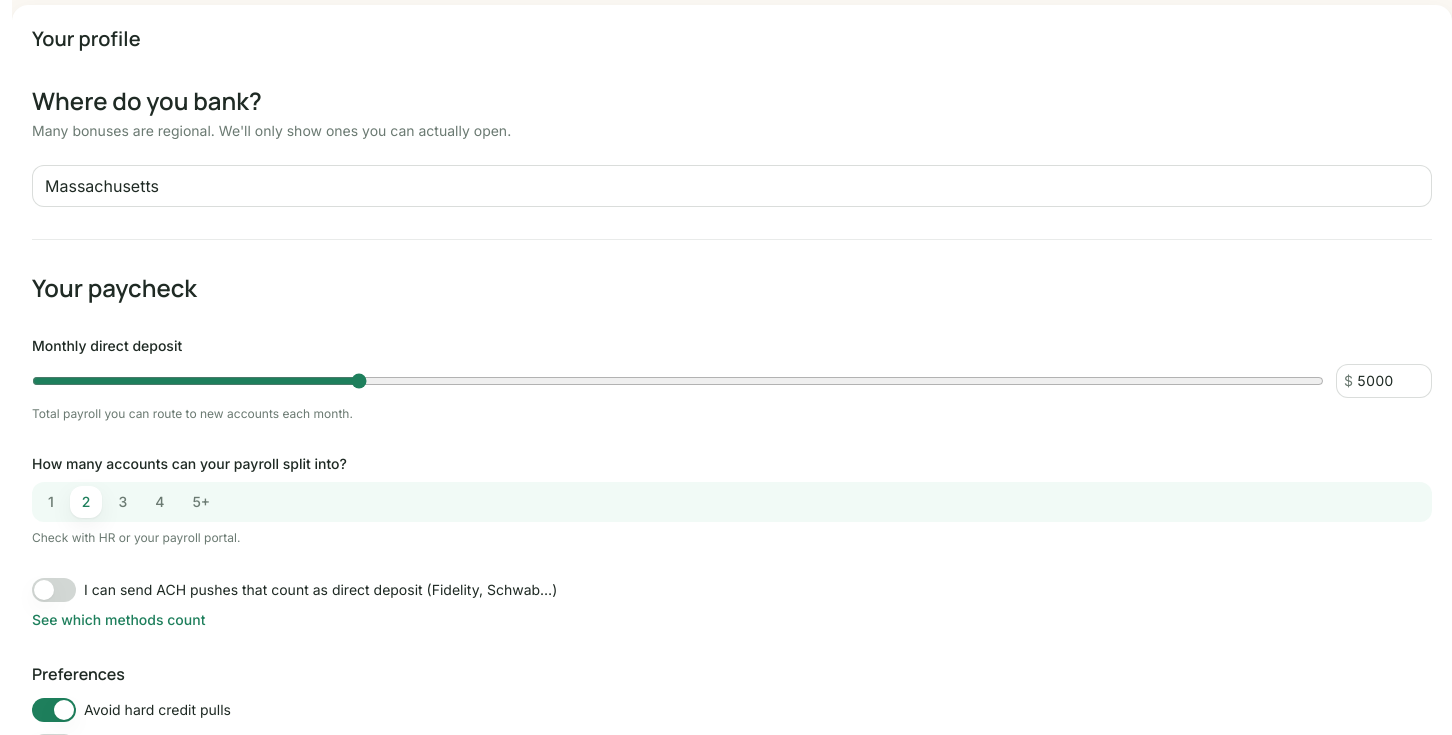
Test case: SettingsPage › editing the monthly DD amount then pressing Save updates the store
Replace the text in the number field named "Monthly direct deposit" with "8000" at (1384, 381), box [1336,364,1432,398]
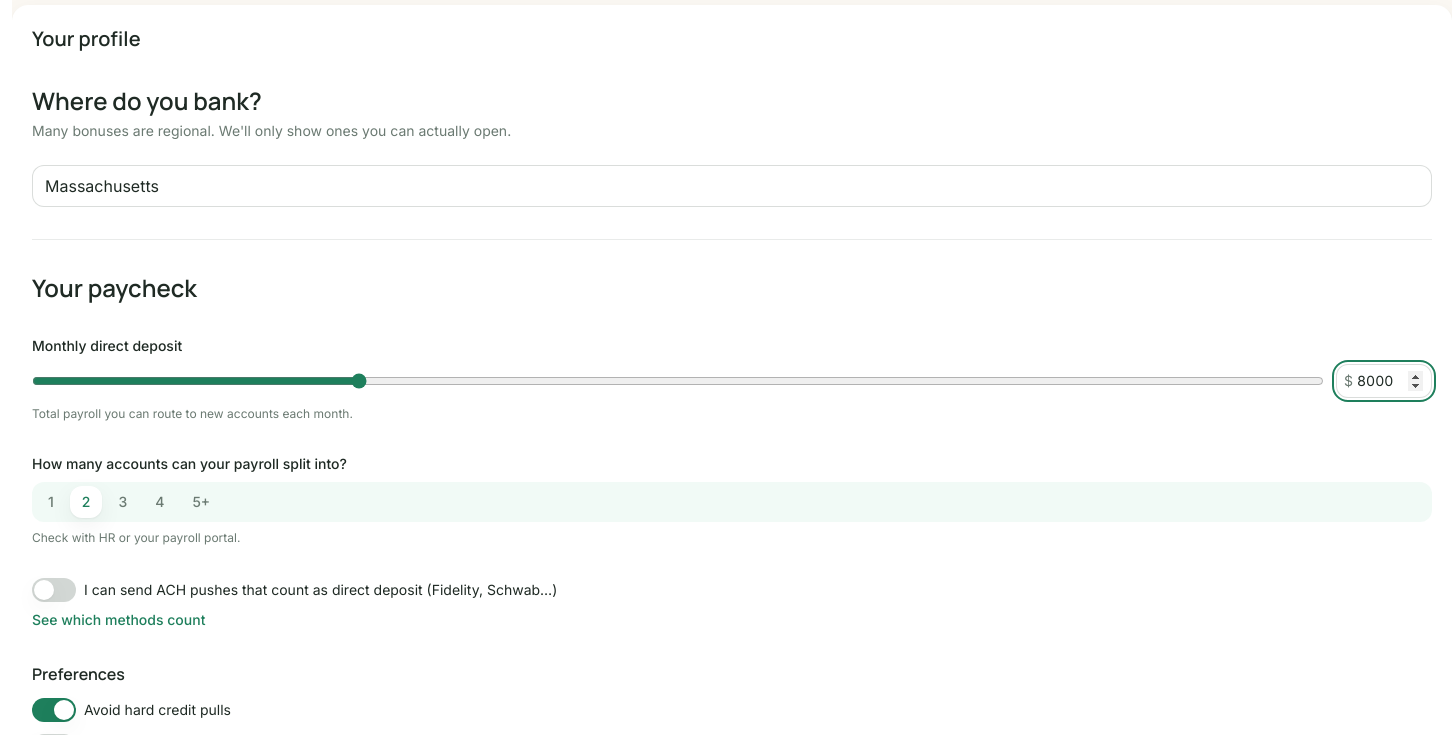
Press Tab
(page scrolled)
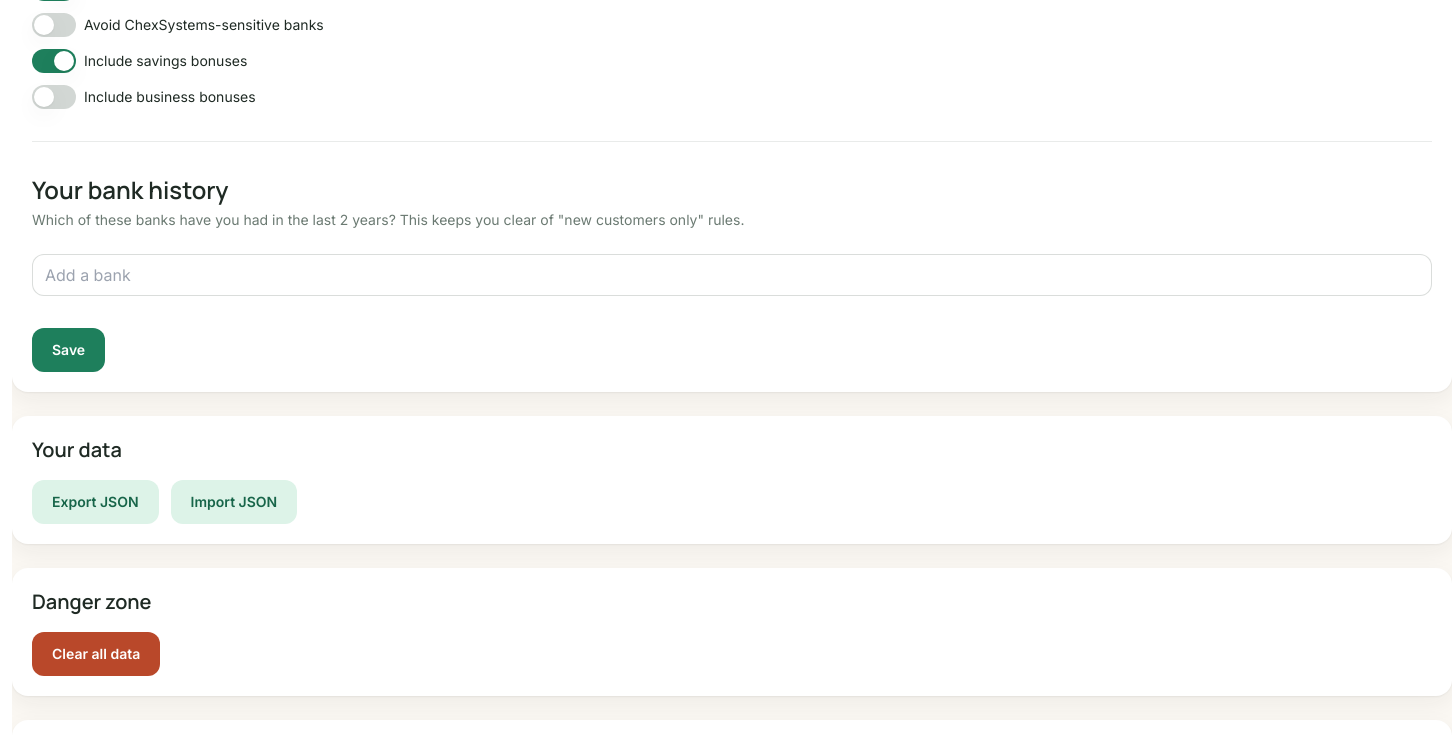
Click the button "Save".
click(69, 350)  # box [32,328,105,372]
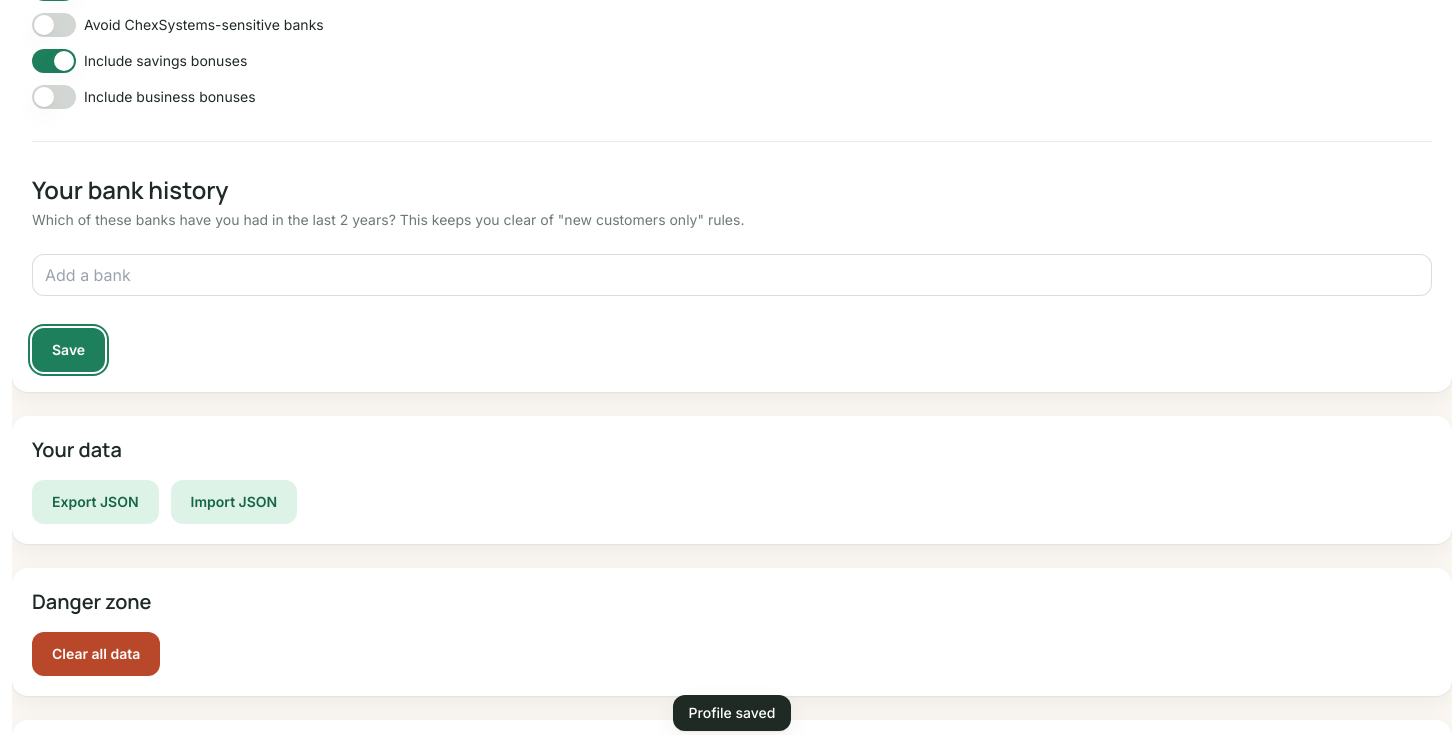
Now the text "Profile saved" is shown, box [672,695,791,731]
